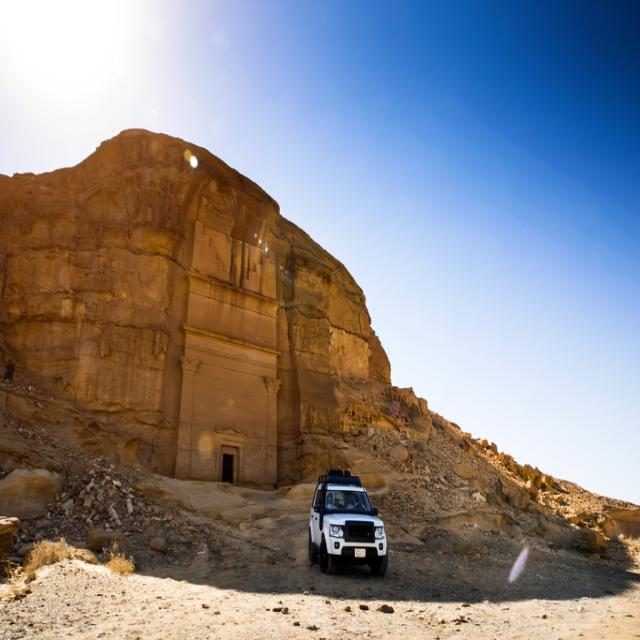car: (308, 474, 395, 579)
